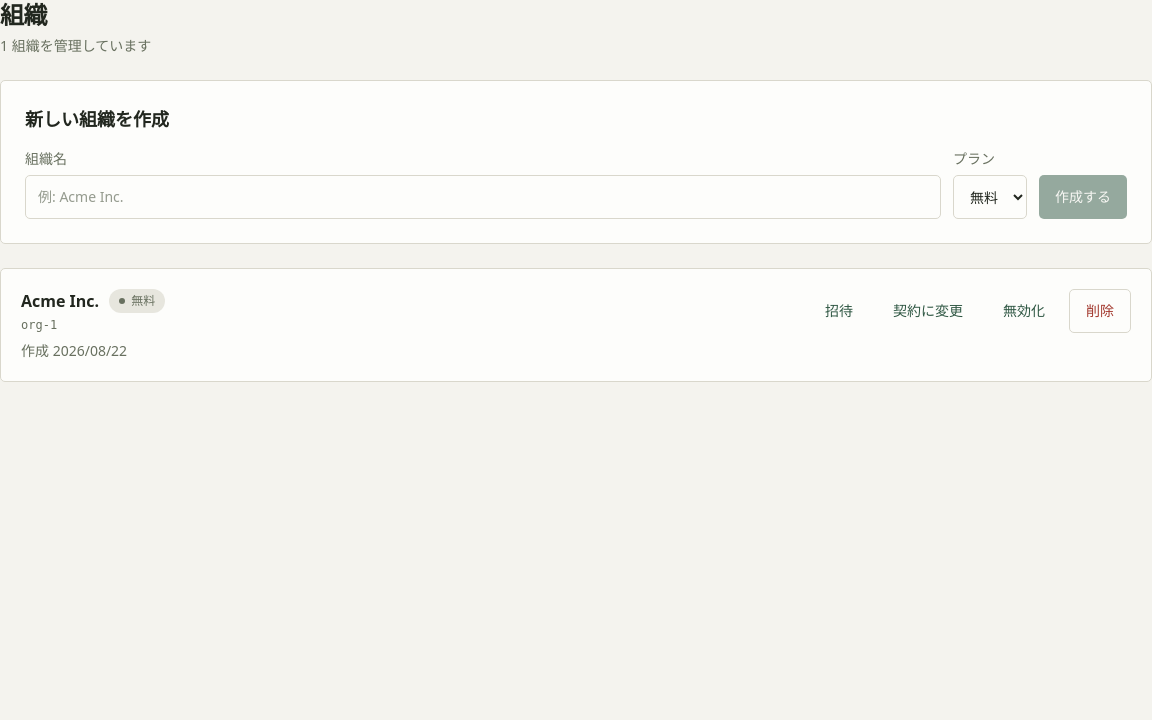
Orgs › requires an email before an invitation can be submitted
Expected: the text "Acme Inc." is shown, [21,289,99,313]
Click the button "招待": (839, 311) [809,289,869,333]
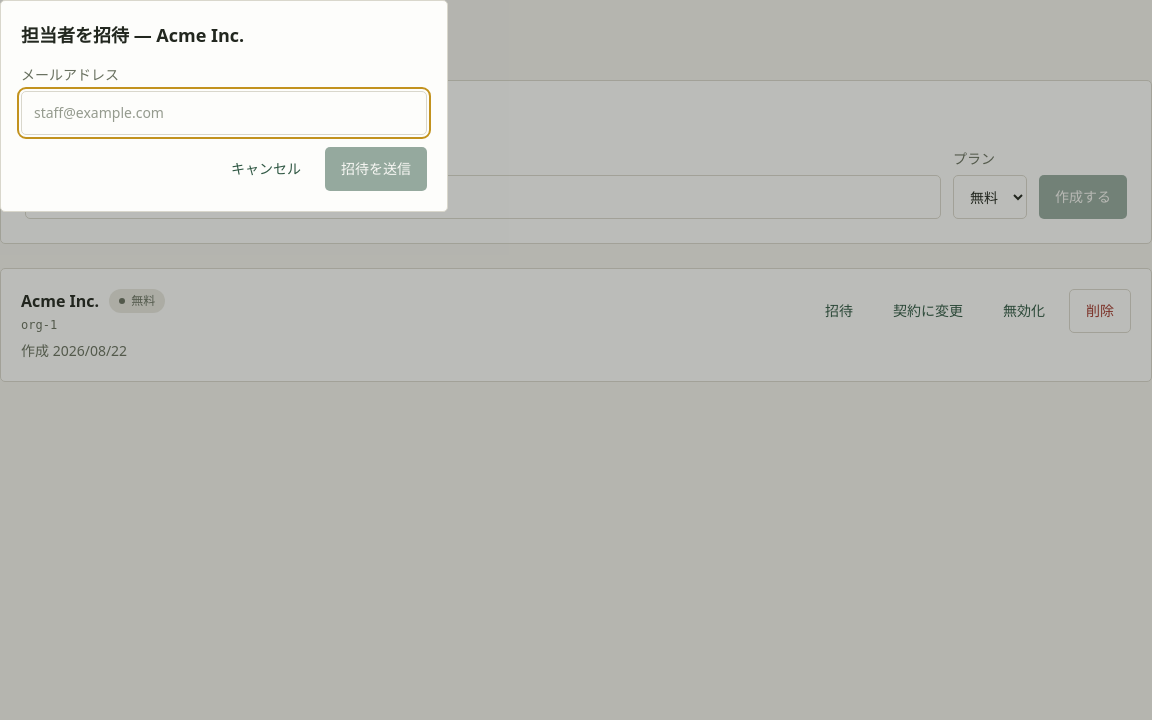
Result: the dialog "担当者を招待 — Acme Inc." is shown at [0,0,448,212]
Result: the button "招待を送信" is disabled at [325,147,427,191]
